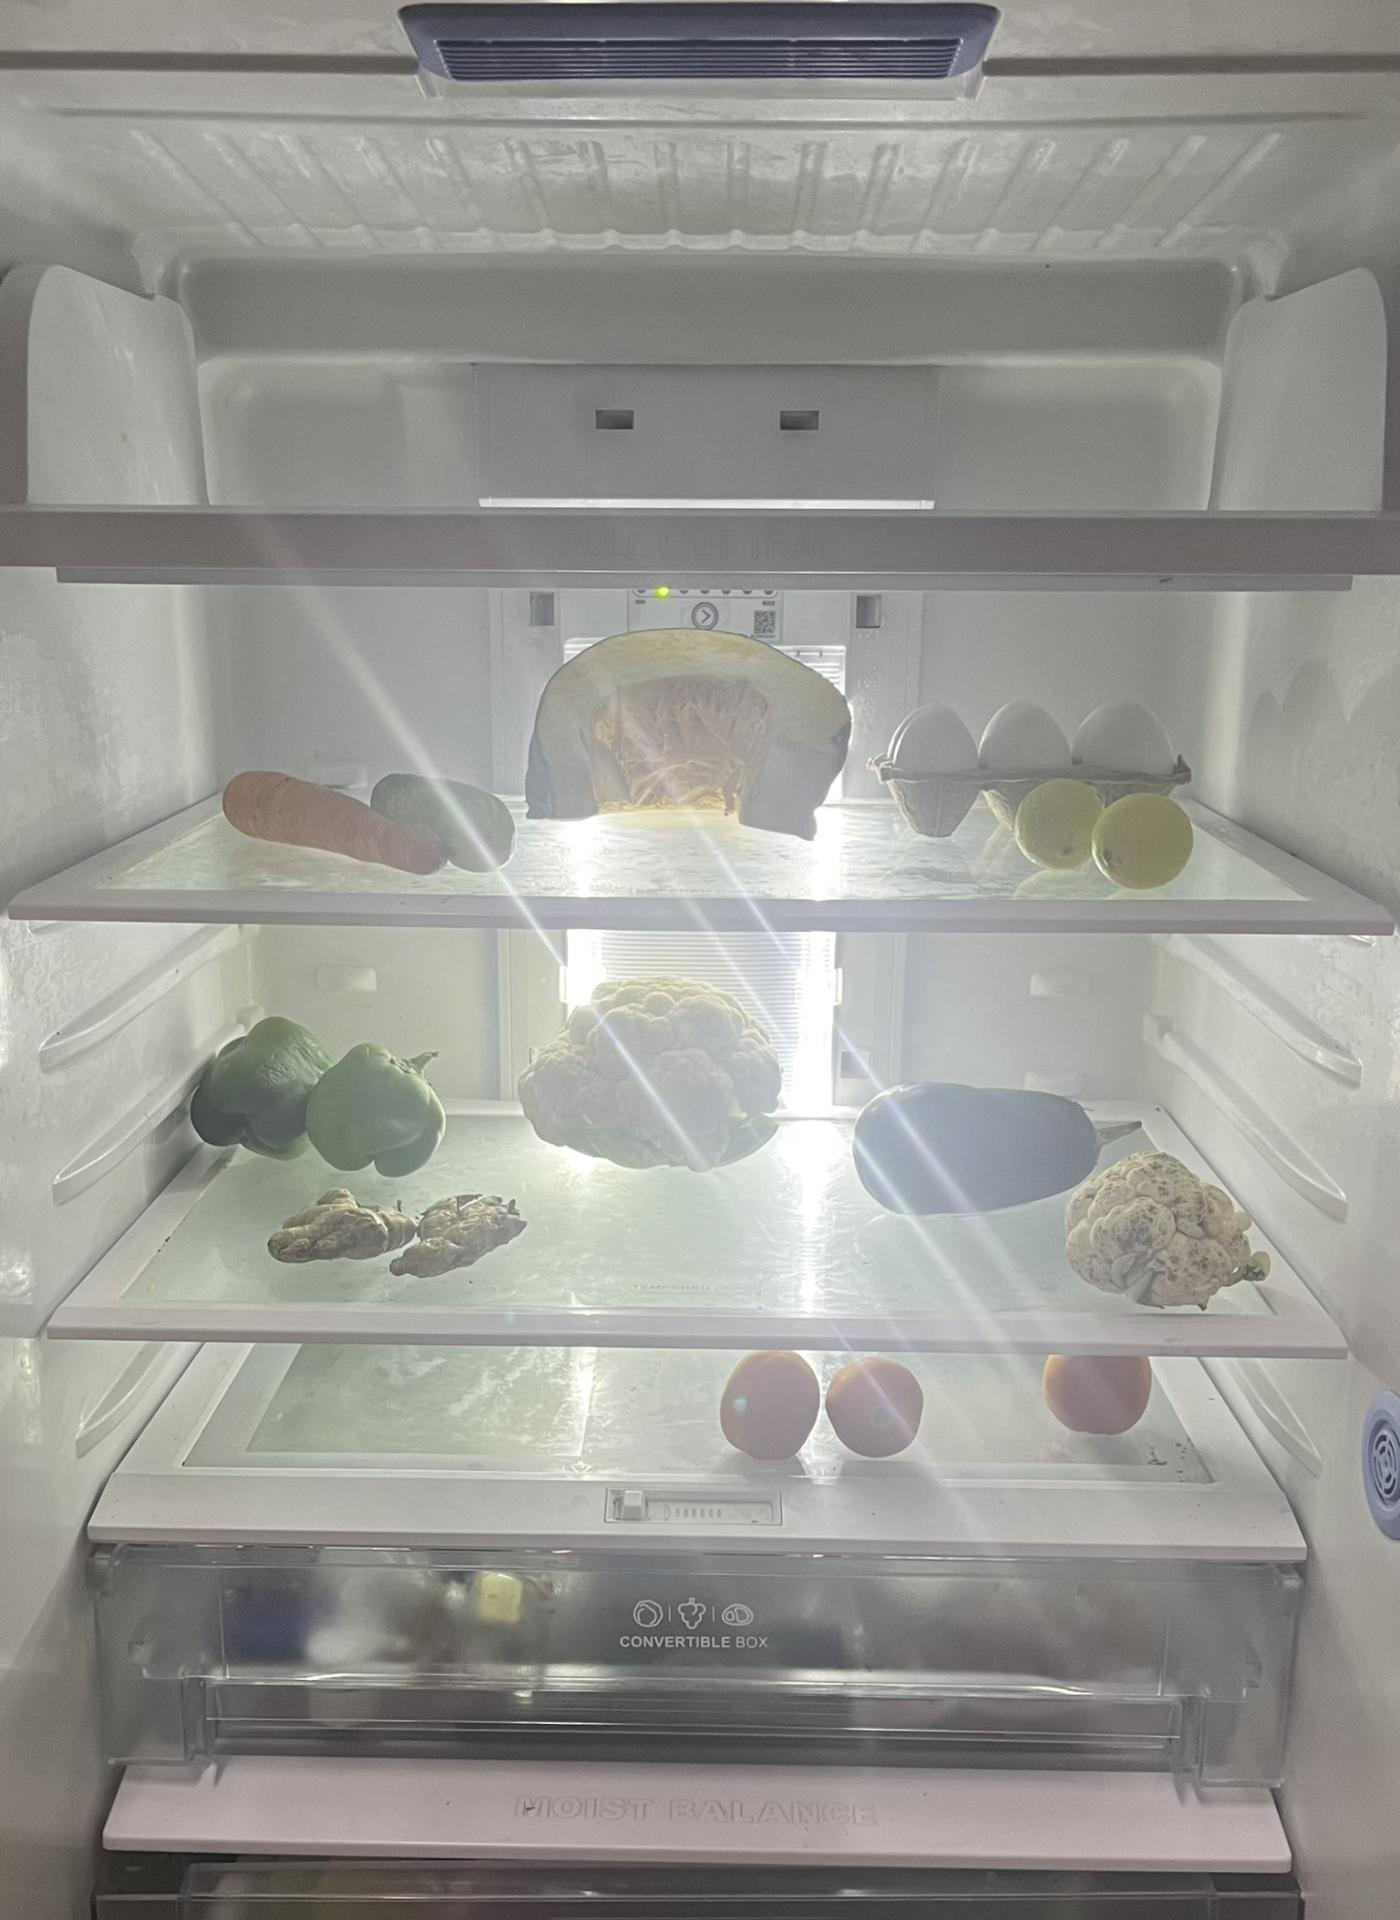brinjal: (845, 1079, 1133, 1209)
capsicum: (192, 1030, 450, 1191)
carrots: (225, 763, 495, 877)
cauliflower: (513, 973, 793, 1169), (1065, 1151, 1273, 1310)
cucumber: (376, 775, 525, 866)
egg: (875, 710, 1181, 833)
ginger: (273, 1191, 513, 1275)
lemon: (984, 774, 1200, 884)
pumpkin: (517, 625, 854, 836)
tomato: (714, 1345, 820, 1462), (824, 1352, 926, 1459), (1038, 1358, 1160, 1437)
